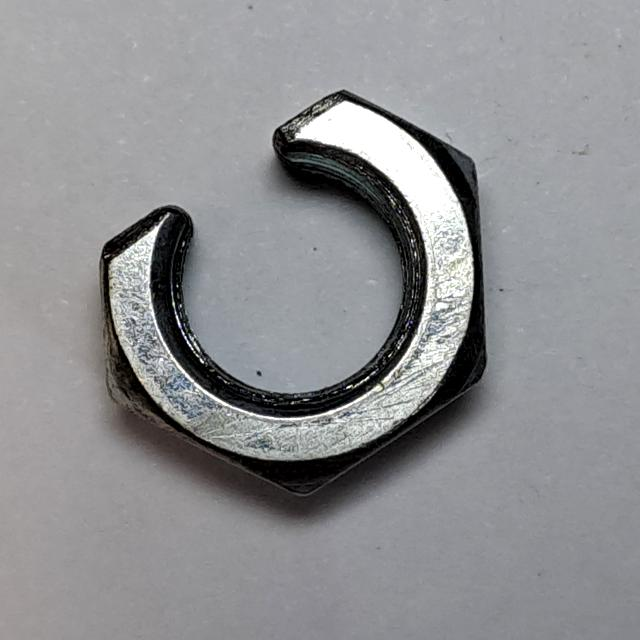Fracture: (77, 72, 507, 513)
